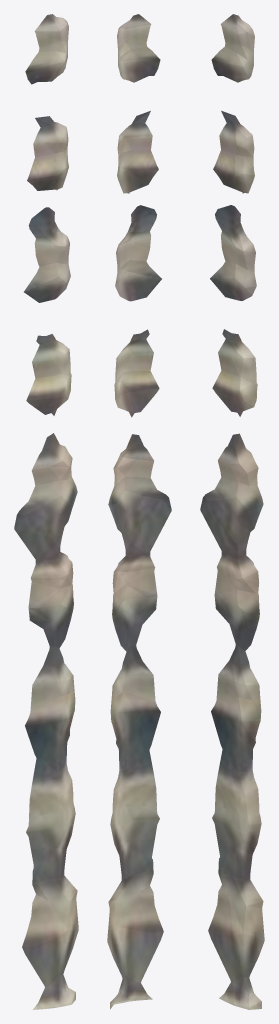
The model's file is Tile_+005_+001_L22_00001100.glb.
3 views of the same model, side by side, from view 1: azimuth 30°, elevation 25°; view 2: azimuth 210°, elevation 25°; view 3: azimuth 330°, elevation 25° (orthographic).
Parts seen in each view (by area): view 1: rtc; view 2: rtc; view 3: rtc.
Boxes of the visible parts, left/top/right/bottom form: rtc: left=14, top=14, right=78, bottom=1009; rtc: left=107, top=14, right=171, bottom=1009; rtc: left=200, top=14, right=264, bottom=1009.
Bounding box in the file's own units: 1.37 × 20.11 × 0.2187.
1 material, 1 textured.
